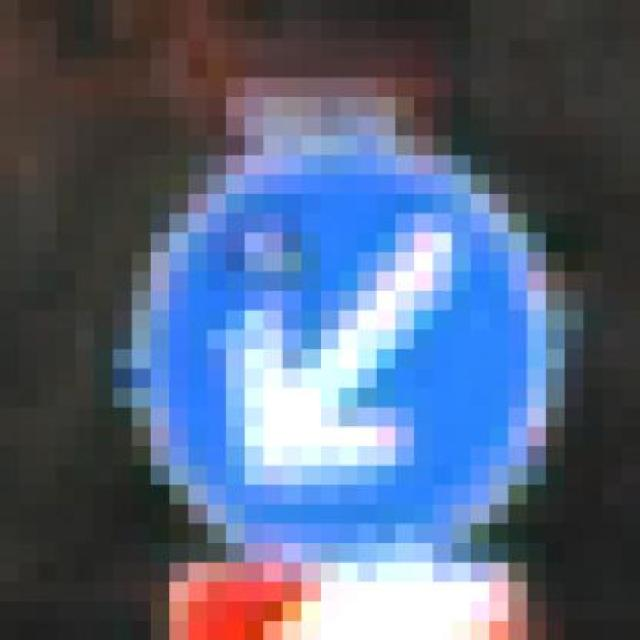Keep-Left: (113, 116, 622, 562)
